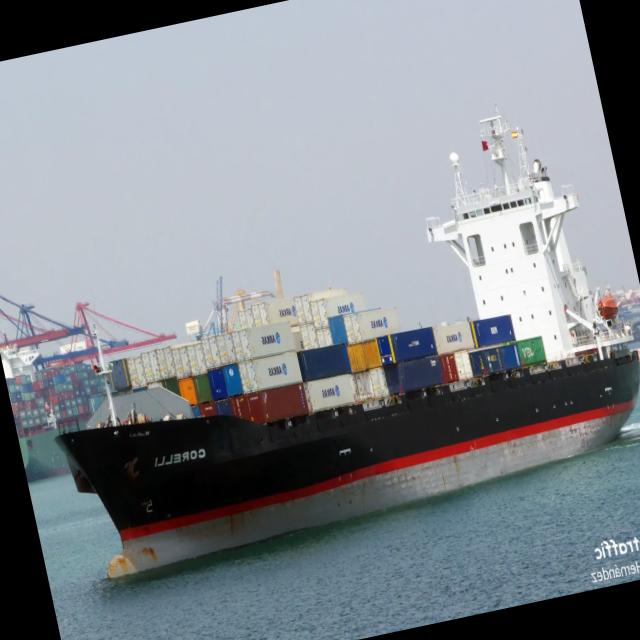Cargo: (57, 114, 640, 576)
